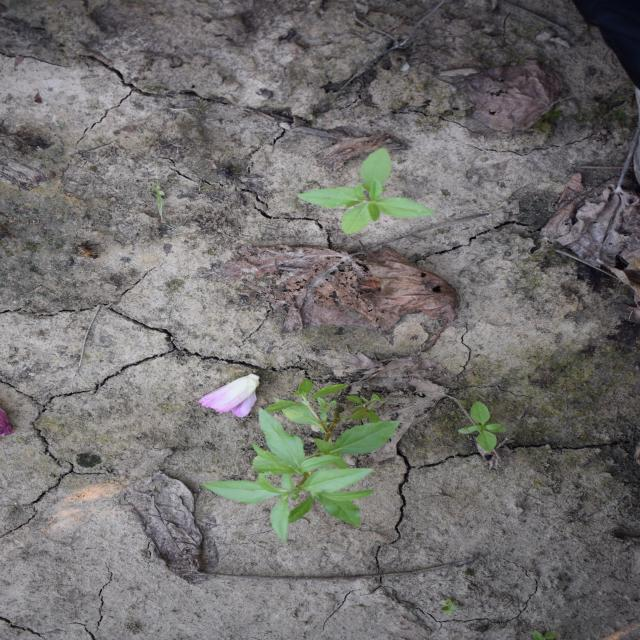Eclipta: (198, 377, 400, 546), (294, 147, 437, 237), (457, 400, 508, 453)
